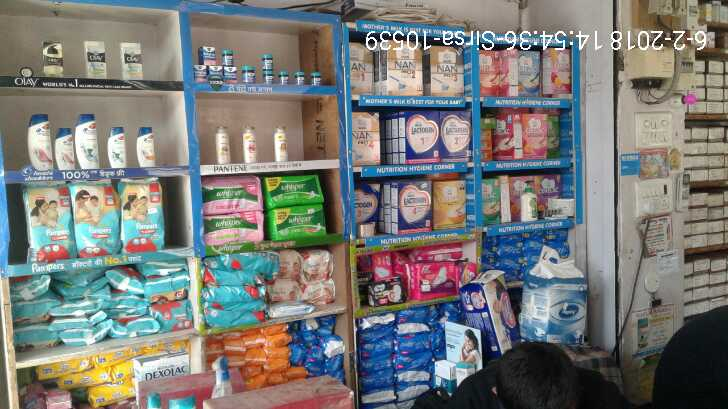beauty: (67, 117, 102, 175), (25, 111, 54, 179), (75, 39, 114, 80), (138, 121, 164, 173), (103, 120, 130, 170), (50, 125, 73, 170), (272, 121, 294, 168), (238, 120, 260, 161), (210, 123, 230, 165), (43, 37, 64, 76), (122, 42, 144, 79)
pharmacy: (69, 185, 121, 255), (27, 185, 70, 261), (119, 181, 164, 253), (200, 174, 264, 212), (266, 174, 325, 206), (267, 205, 324, 236), (202, 213, 262, 242), (200, 44, 218, 67), (240, 65, 258, 87), (311, 69, 324, 87), (292, 69, 305, 85), (261, 52, 273, 69), (279, 68, 289, 87), (223, 64, 235, 79), (222, 50, 233, 63), (263, 70, 273, 84)
